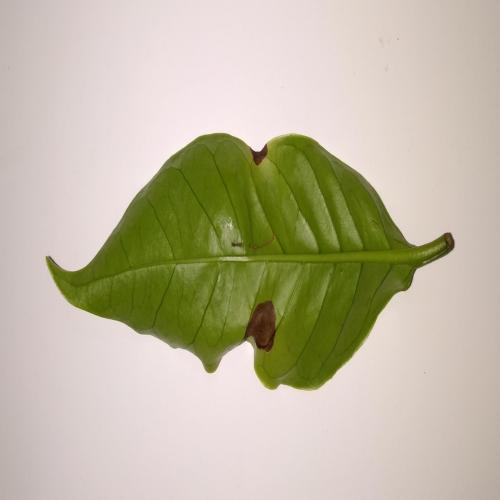leaf: (33, 127, 461, 397)
phoma: (234, 292, 283, 361), (242, 132, 277, 173)
